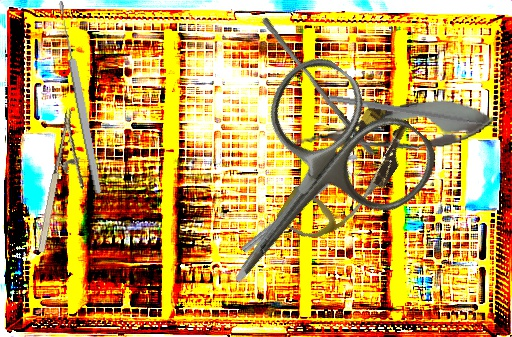Cannula: (274, 89, 422, 260)
Fixation Ring: (237, 151, 369, 263)
Iris Scissors: (165, 43, 451, 337)
Micro Scissor: (286, 90, 501, 168)
Needle Holder: (33, 107, 101, 258)
Pusher: (256, 16, 381, 157)
Spatula Surgical: (326, 94, 505, 137)
Surgical Spoon: (55, 0, 105, 195)
